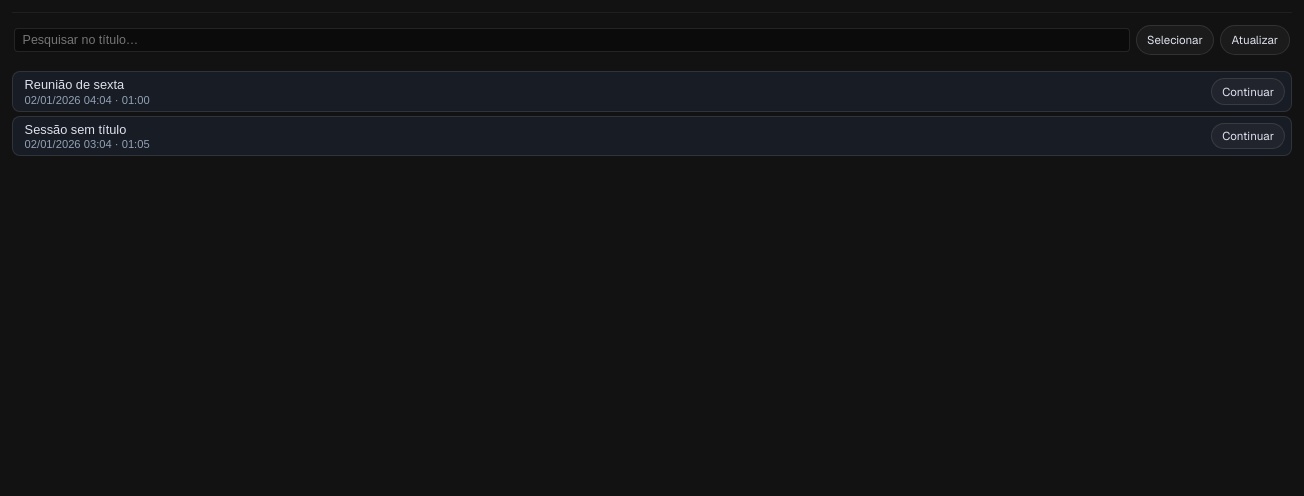
it: HistoryPanel › troca para a aba Transcrição e mostra a linha temporal
This screenshot has width=1304, height=496.
Click the text "Reunião de sexta": (74, 84) [25,77,124,92]
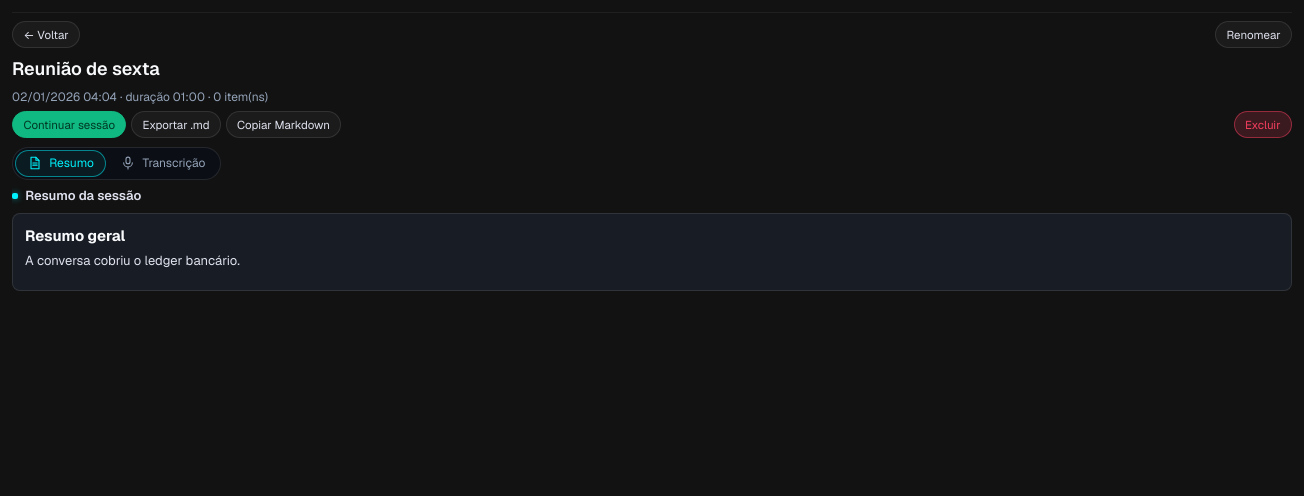
Click the tab "Transcrição": (163, 163) [108,150,218,177]
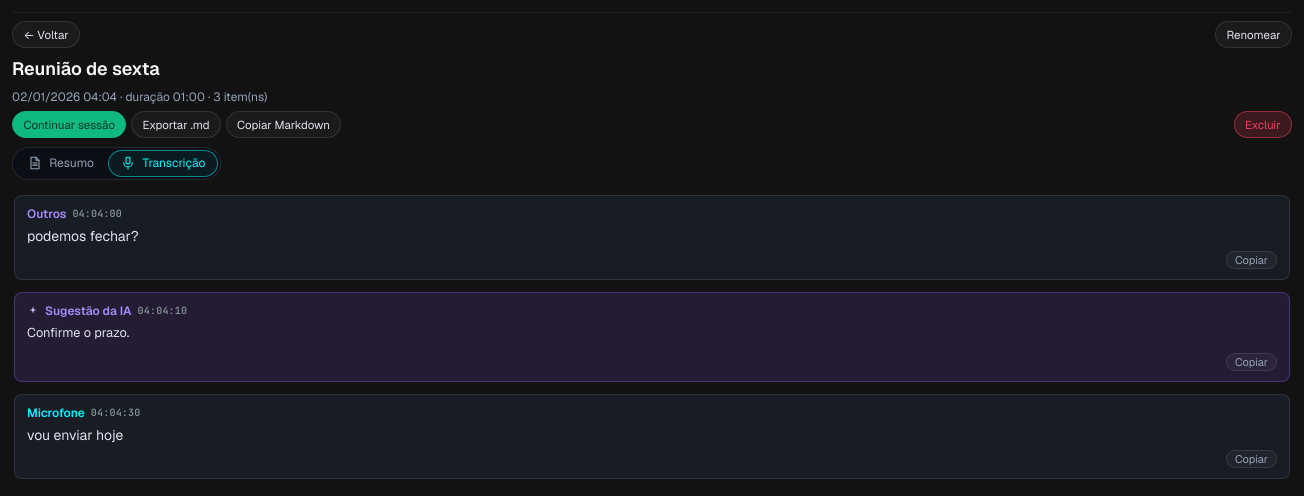
Check: the heading "Resumo da sessão" is gone
Check: the text "podemos fechar?" is shown, box [27,226,139,244]
